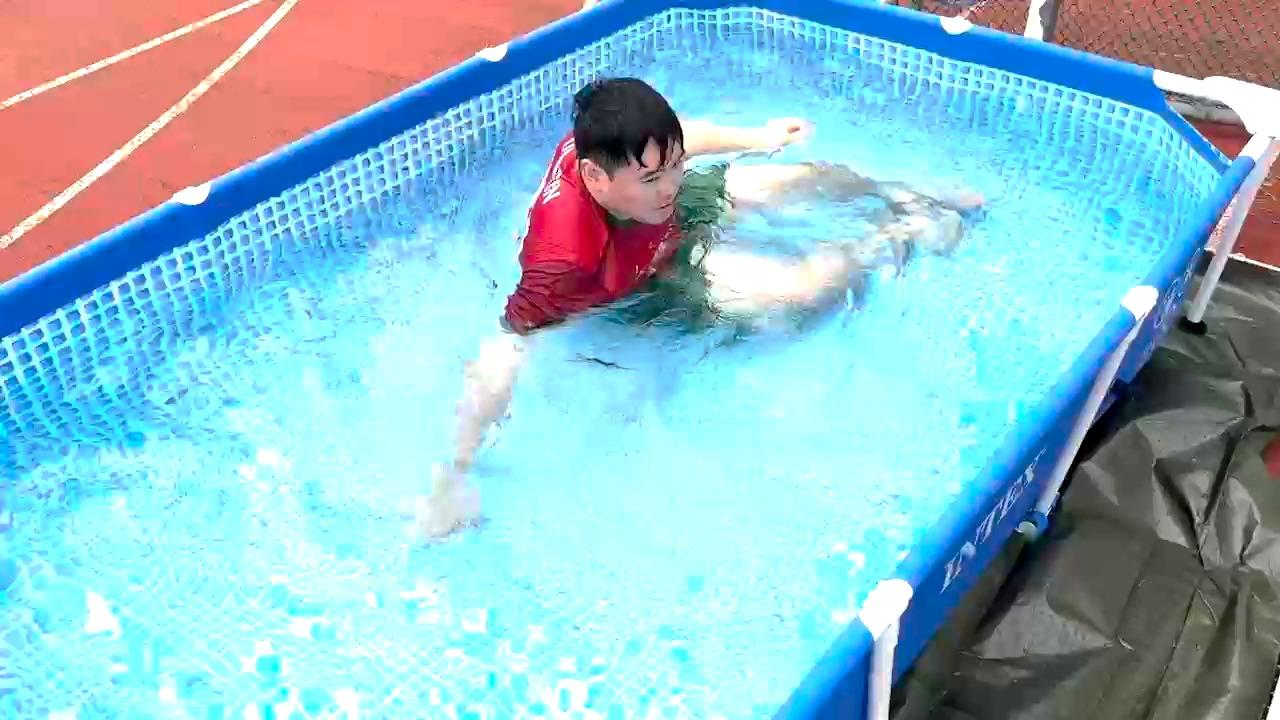Swimming: (371, 28, 1016, 492)
